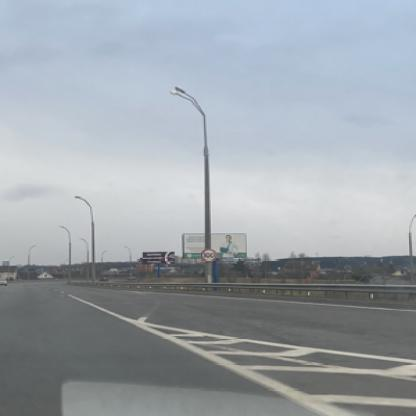Speed Limit 100: (201, 248, 218, 262)
